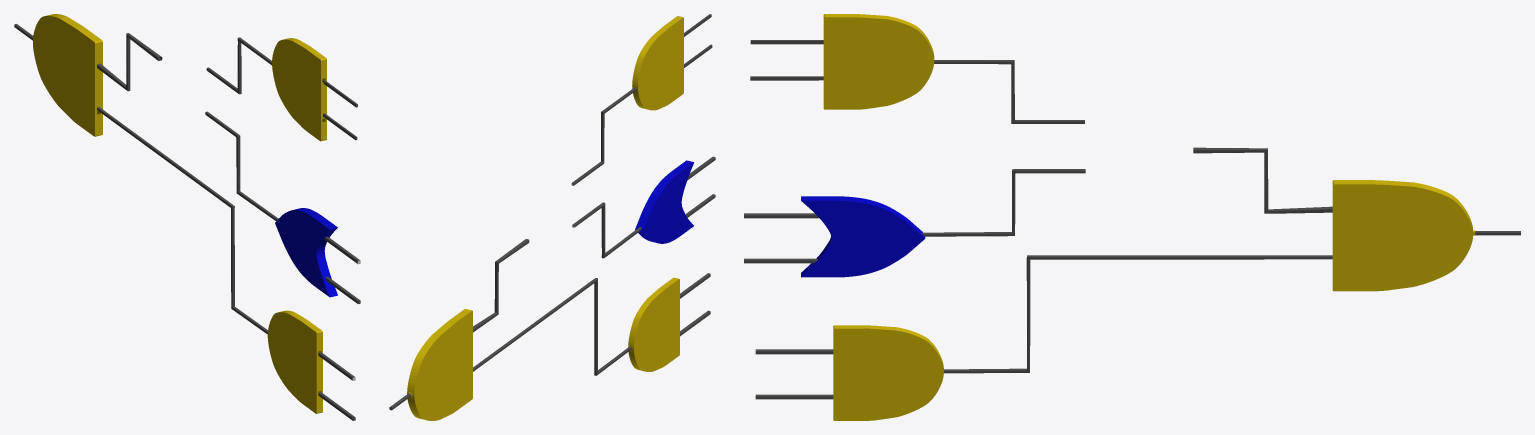
File: fase2Exemplo1.fbx
3 views of the same model, side by side, from view 1: azimuth 30°, elevation 25°; view 2: azimuth 150°, elevation 25°; view 3: azimuth 270°, elevation 25° (orthographic). The views are drawn at different scales.
Visible parts, largest first — view 1: Plano.007, PortaESozinha.003, PortaESozinha, PortaOuSozinha.001, Plano.004, Plano.001, Plano.000, Fio, PortaESozinha.002, PortaESozinha.001, PortaOuSozinha; view 2: Plano.007, PortaESozinha.003, PortaESozinha, PortaOuSozinha.001, Plano.004, Plano.001, Plano.000, Fio, PortaESozinha.002, PortaESozinha.001; view 3: Plano.007, PortaESozinha, PortaESozinha.003, PortaOuSozinha.001, Plano.004, Plano.001, Plano.000, PortaESozinha.002, PortaESozinha.001, Fio, PortaOuSozinha.
Boxes of the visible parts, x1,y1,x2,y2 form: Plano.007: (33, 14, 102, 136); PortaESozinha.003: (267, 310, 322, 413); PortaESozinha: (272, 38, 326, 141); PortaOuSozinha.001: (275, 208, 337, 297); Plano.004: (97, 107, 267, 334); Plano.001: (14, 24, 162, 91); Plano.000: (205, 111, 278, 221); Fio: (206, 37, 271, 94); PortaESozinha.002: (318, 351, 355, 420); PortaESozinha.001: (324, 236, 360, 304); PortaOuSozinha: (322, 80, 357, 140); Plano.007: (407, 309, 472, 420); PortaESozinha.003: (628, 277, 679, 371); PortaESozinha: (632, 16, 683, 110); PortaOuSozinha.001: (635, 160, 693, 243); Plano.004: (473, 278, 631, 375); Plano.001: (389, 239, 529, 410); Plano.000: (572, 202, 641, 258); Fio: (571, 87, 636, 185); PortaESozinha.002: (680, 273, 710, 336); PortaESozinha.001: (685, 156, 715, 217); Plano.007: (1332, 180, 1475, 291); PortaESozinha: (823, 14, 934, 109); PortaESozinha.003: (833, 325, 943, 420); PortaOuSozinha.001: (801, 196, 925, 277); Plano.004: (944, 255, 1332, 373); Plano.001: (1193, 147, 1520, 235); Plano.000: (922, 169, 1085, 236); PortaESozinha.002: (755, 349, 833, 399); PortaESozinha.001: (744, 213, 818, 263); Fio: (934, 60, 1084, 123); PortaOuSozinha: (750, 40, 823, 80).
Bounding box in the file's own units: 2.82 × 113 × 197.
